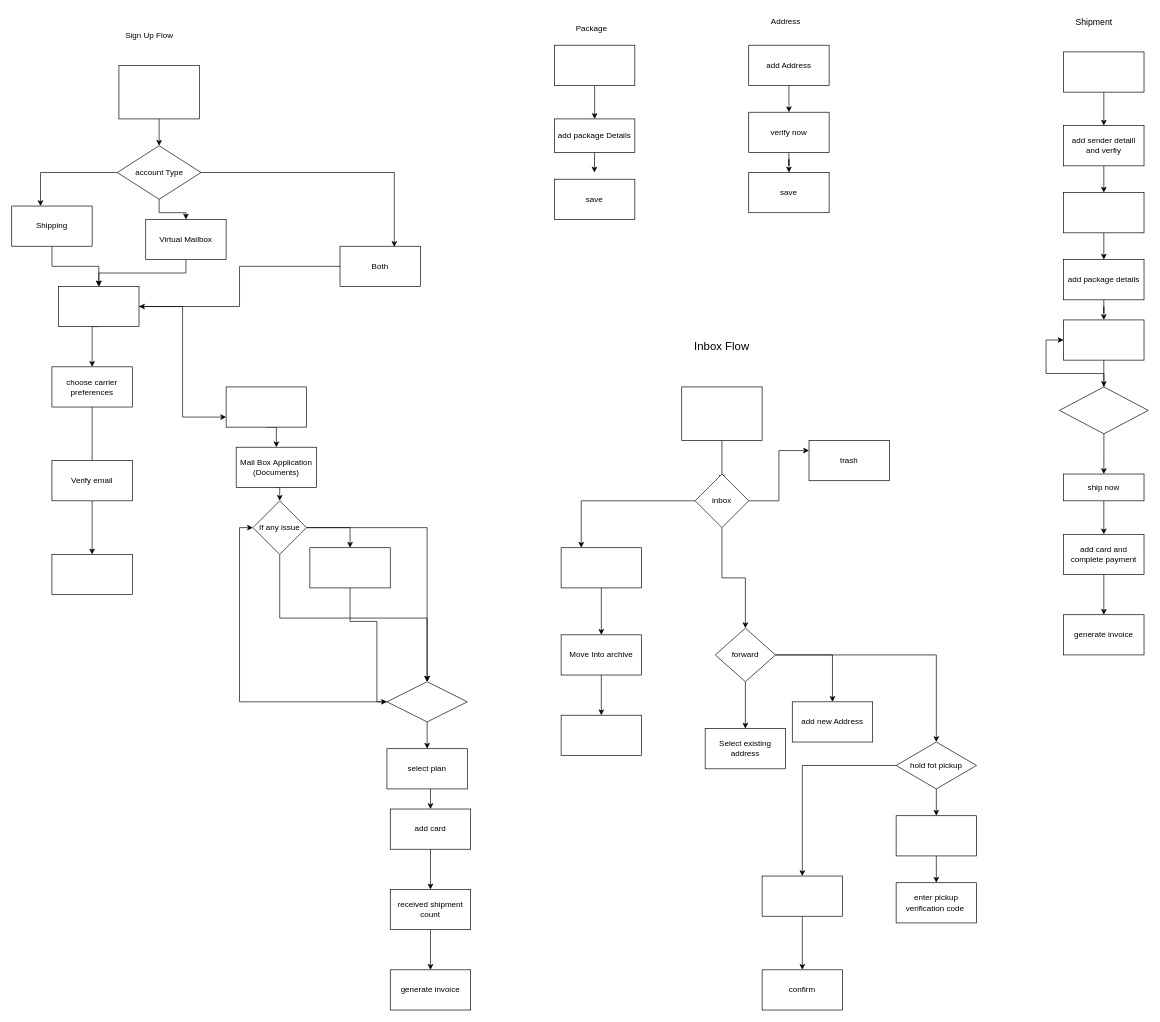
The diagram is 1160 pixels wide and 1022 high, and some of its shapes have lost their labels. The shapes that lost their labels are listed below. From the top down, each one's centre as x and y in pixels, then its label:
At (x=594, y=65): "Add Package".
At (x=1103, y=71): "create Shipment".
At (x=158, y=92): "SignUp Account".
At (x=1103, y=212): "add reciever details and verify".
At (x=98, y=306): "Account Details".
At (x=1103, y=339): "add Shipment date and select service".
At (x=266, y=406): "Post Office Form".
At (x=721, y=413): "Admin upload/assign slip to virtual mailbox".
At (x=1103, y=410): "add additional Detail".
At (x=91, y=574): "login".
At (x=349, y=567): "Schedule Meeting".
At (x=601, y=567): "Open and scan".
At (x=426, y=701): "waiting for approval".
At (x=601, y=735): "request to make changes".
At (x=936, y=835): "Get a Code".
At (x=802, y=895): "Not My Email".
